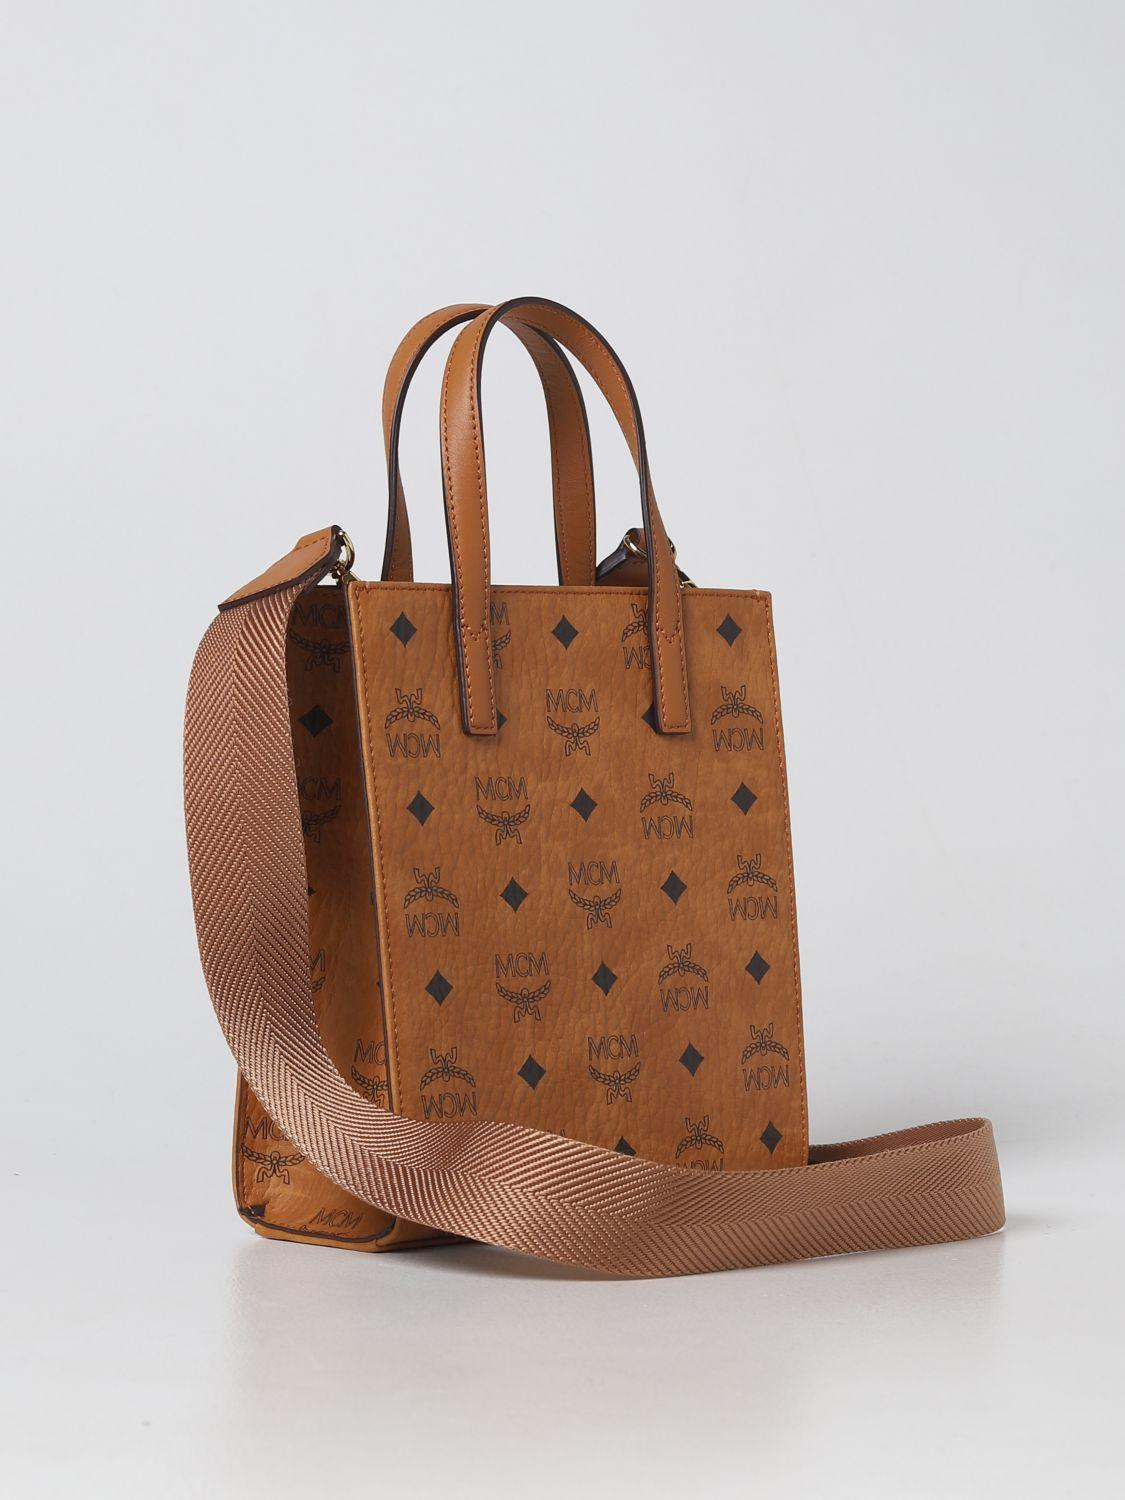MCM: (171, 542, 811, 1233)
